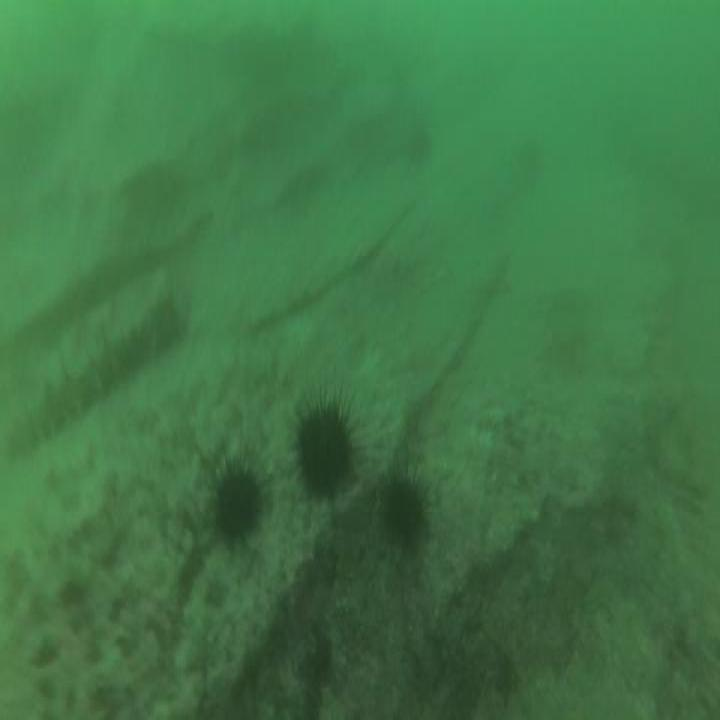echinus: (299, 407, 351, 498), (217, 473, 260, 540), (387, 475, 422, 538)
holothurian: (7, 316, 156, 450)
